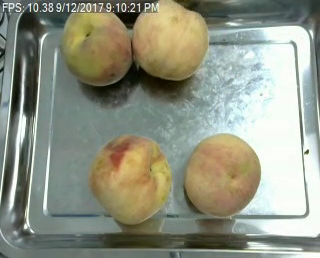Peach: (89, 134, 171, 225), (185, 132, 261, 217), (60, 2, 132, 86), (133, 0, 208, 80)
